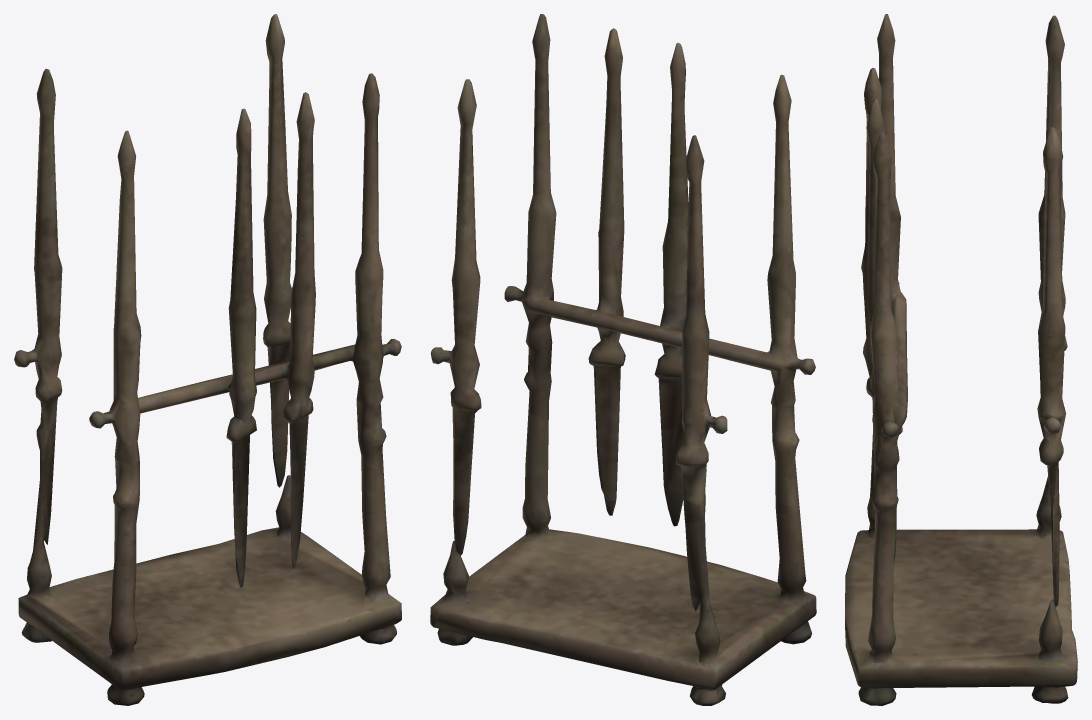
The model's file is ornate-wood-weapon-rack-v002.glb.
3 views of the same model, side by side, from view 1: azimuth 30°, elevation 25°; view 2: azimuth 150°, elevation 25°; view 3: azimuth 270°, elevation 25° (orthographic).
Visible parts, largest first — view 1: ornate-wood-weapon-rack; view 2: ornate-wood-weapon-rack; view 3: ornate-wood-weapon-rack.
Part boxes in pixels (left/top/right/bottom): ornate-wood-weapon-rack: left=14, top=14, right=401, bottom=705; ornate-wood-weapon-rack: left=430, top=14, right=816, bottom=705; ornate-wood-weapon-rack: left=845, top=14, right=1077, bottom=705.
Bounding box in the file's own units: 0.8489 × 1.48 × 0.5509.
Materials: 1 (1 with a texture image).
